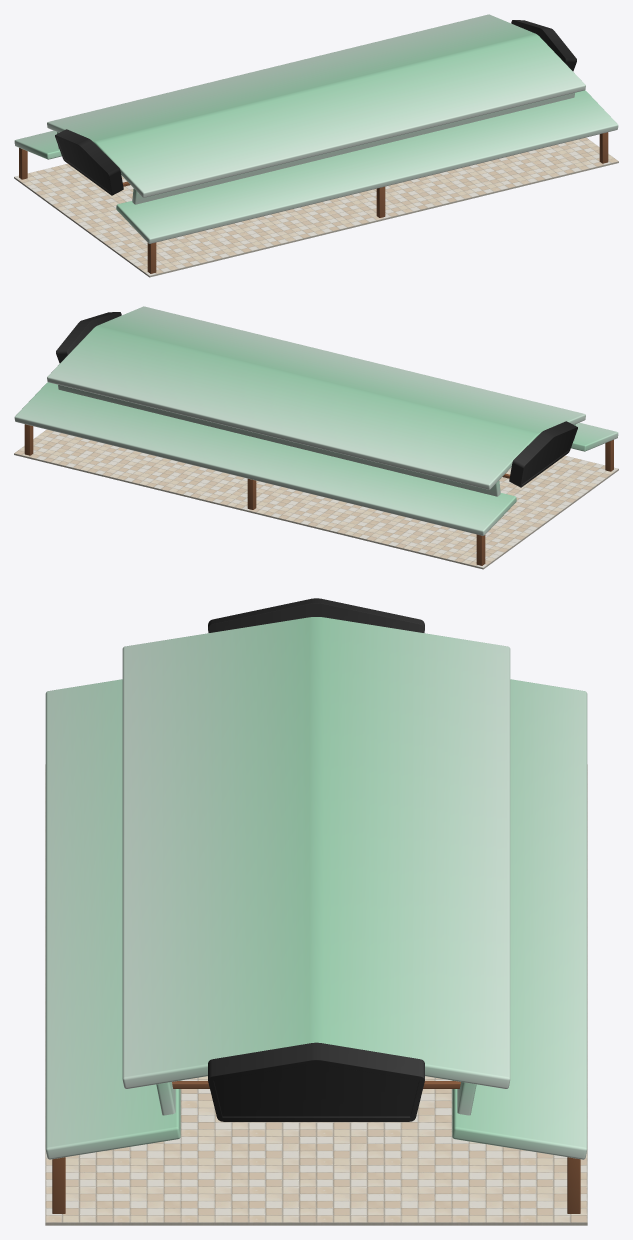
The model's file is HH_HawkerCentre.fbx.
The picture shows the model from 3 angles, top to bottom: view 1: azimuth 30°, elevation 25°; view 2: azimuth 150°, elevation 25°; view 3: azimuth 270°, elevation 25°; orthographic projection. The views are drawn at different scales.
Parts seen in each view (by area): view 1: Roof_Top, Roof_Low, HawkerCentreSign, Roof_Mid, Cube.108, Cube.103, Cube.104, Cube.107, Cube.105, Cube.109, Cube.102, Cube.077 (+3 smaller); view 2: Roof_Top, Roof_Low, HawkerCentreSign, Roof_Mid, Cube.084, Cube.074, Cube.075, Cube.083, Cube.076, Cube.085, Cube.077, Cube.102 (+3 smaller); view 3: Roof_Top, Roof_Low, HawkerCentreSign, Cube.093, Cube.101, Cube.085, Cube.109, Cube.092, Cube.100, Cube.084, Cube.108, Roof_Mid.
Boxes of the visible parts, bbox=[...] form: Roof_Top: bbox=[47, 14, 585, 197]; Roof_Low: bbox=[14, 90, 618, 243]; HawkerCentreSign: bbox=[55, 20, 576, 195]; Roof_Mid: bbox=[57, 93, 574, 204]; Cube.108: bbox=[469, 152, 560, 191]; Cube.103: bbox=[176, 223, 266, 262]; Cube.104: bbox=[234, 209, 325, 248]; Cube.107: bbox=[410, 166, 501, 205]; Cube.105: bbox=[293, 195, 384, 234]; Cube.109: bbox=[528, 137, 618, 177]; Cube.102: bbox=[115, 238, 208, 277]; Cube.077: bbox=[14, 163, 101, 202]; Roof_Top: bbox=[47, 306, 585, 489]; Roof_Low: bbox=[14, 382, 618, 535]; HawkerCentreSign: bbox=[56, 312, 577, 487]; Roof_Mid: bbox=[58, 385, 575, 496]; Cube.084: bbox=[72, 444, 163, 483]; Cube.074: bbox=[366, 515, 456, 554]; Cube.075: bbox=[307, 501, 398, 540]; Cube.083: bbox=[131, 458, 222, 497]; Cube.076: bbox=[248, 487, 339, 526]; Cube.085: bbox=[14, 429, 104, 469]; Cube.077: bbox=[424, 530, 517, 569]; Cube.102: bbox=[531, 455, 618, 494]; Roof_Top: bbox=[122, 617, 510, 1088]; Roof_Low: bbox=[45, 679, 587, 1159]; HawkerCentreSign: bbox=[208, 598, 424, 1121]; Cube.093: bbox=[316, 1165, 451, 1225]; Cube.101: bbox=[181, 1165, 316, 1225]; Cube.085: bbox=[452, 1165, 587, 1225]; Cube.109: bbox=[45, 1165, 180, 1225]; Cube.092: bbox=[316, 1108, 451, 1165]; Cube.100: bbox=[181, 1108, 316, 1165]; Cube.084: bbox=[452, 1108, 587, 1165]; Cube.108: bbox=[45, 1108, 180, 1165]; Roof_Mid: bbox=[156, 1082, 476, 1115].
Bounding box in the file's own units: 8073 × 1413 × 4000.
Materials: 3 (3 with a texture image).
